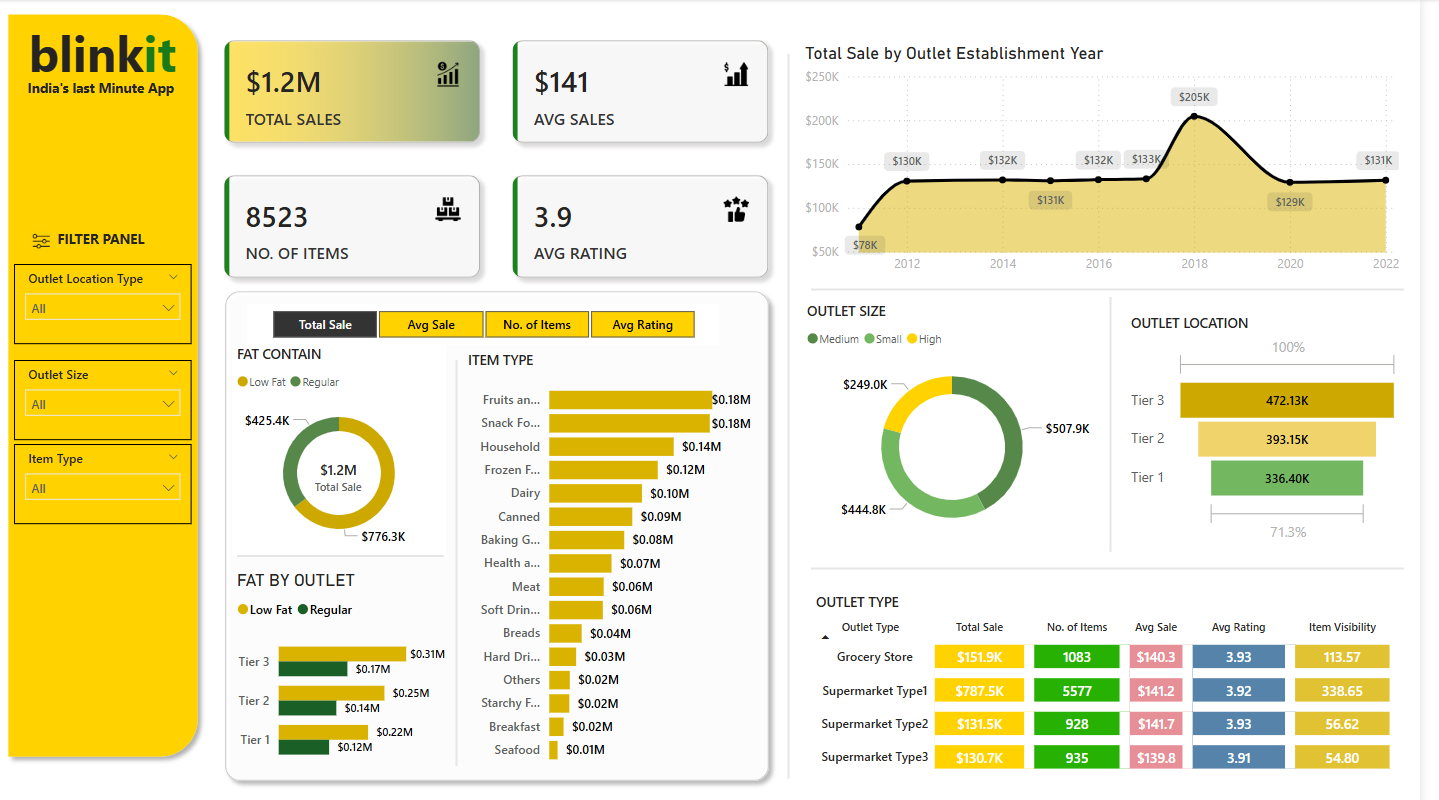

This screenshot's page, from the dashboard's own definition file:
{"tool":"powerbi","page":{"name":"Page 1","canvas":[1400,800],"ordinal":0},"visuals":[{"type":"shape","box":[0,5.9,204.9,749.8],"z":0},{"type":"textbox","box":[17.7,14.8,168.5,74.9],"z":1000},{"type":"textbox","box":[252.2,6.9,457.1,32.5],"z":2000},{"type":"textbox","box":[17.7,73.9,168.5,30.5],"z":3000},{"type":"cardVisual","fields":{"Data":["BlinkIT Grocery Data.Total Sale","BlinkIT Grocery Data.Avg Sale","BlinkIT Grocery Data.No. of Items","BlinkIT Grocery Data.Avg Rating"]},"box":[204.9,23.6,570.4,270],"z":4000},{"type":"shape","box":[213.8,278.8,553.7,500.5],"z":5000},{"type":"donutChart","title":"FAT CONTAIN","fields":{"Y":["BlinkIT Grocery Data.Total Sale"],"Category":["BlinkIT Grocery Data.Item Fat Content"]},"box":[229.6,340.9,210.8,207.9],"z":6000},{"type":"slicer","fields":{"Values":["Metrix.Metrix"]},"box":[244.3,300.5,465,40.4],"z":7000},{"type":"cardVisual","fields":{"Data":["BlinkIT Grocery Data.Total Sale"]},"box":[289.7,438.4,89.7,56.2],"z":8000},{"type":"clusteredBarChart","title":"FAT BY OUTLET","fields":{"Y":["BlinkIT Grocery Data.Total Sale"],"Category":["BlinkIT Grocery Data.Outlet Location Type"],"Series":["BlinkIT Grocery Data.Item Fat Content"]},"box":[229.6,562.6,214.8,203.9],"z":9000},{"type":"shape","box":[800,278.8,584.2,14.8],"z":10000},{"type":"shape","box":[444.3,355.7,12.8,400],"z":11000},{"type":"barChart","title":"ITEM TYPE","fields":{"Y":["BlinkIT Grocery Data.Total Sale"],"Category":["BlinkIT Grocery Data.Item Type"]},"box":[457.1,346.8,288.7,416.7],"z":12000},{"type":"lineChart","fields":{"Y":["BlinkIT Grocery Data.Total Sale"],"Category":["BlinkIT Grocery Data.Outlet Establishment Year"]},"box":[789.2,43.3,595.1,235.5],"z":13000},{"type":"shape","box":[234.5,544.8,203.9,7.9],"z":14000},{"type":"donutChart","title":"OUTLET SIZE","fields":{"Y":["BlinkIT Grocery Data.Total Sale"],"Category":["BlinkIT Grocery Data.Outlet Size"]},"box":[791.1,298.5,295.6,241.4],"z":15000},{"type":"shape","box":[1088.7,293.6,12.8,251.2],"z":16000},{"type":"shape","box":[800,555.7,584.2,10.8],"z":17000},{"type":"funnel","title":"OUTLET LOCATION","fields":{"Y":["Sum(BlinkIT Grocery Data.Sales)"],"Category":["BlinkIT Grocery Data.Outlet Location Type"]},"box":[1110.3,310.3,273.9,229.6],"z":18000},{"type":"shape","box":[771.4,54.2,12.8,714.3],"z":19000},{"type":"pivotTable","title":"OUTLET TYPE","fields":{"Rows":["BlinkIT Grocery Data.Outlet Type"],"Values":["BlinkIT Grocery Data.Total Sale","BlinkIT Grocery Data.No. of Items","BlinkIT Grocery Data.Avg Sale","BlinkIT Grocery Data.Avg Rating","Sum(BlinkIT Grocery Data.Item Visibility)"]},"box":[800,585.2,591.1,214.8],"z":20000},{"type":"slicer","fields":{"Values":["BlinkIT Grocery Data.Outlet Location Type"]},"box":[14.8,261.1,175.4,78.8],"z":21000},{"type":"slicer","fields":{"Values":["BlinkIT Grocery Data.Outlet Size"]},"box":[14.8,355.7,175.4,78.8],"z":22000},{"type":"slicer","fields":{"Values":["BlinkIT Grocery Data.Item Type"]},"box":[14.8,438.4,175.4,78.8],"z":23000},{"type":"textbox","box":[17.7,222.7,168.5,30.5],"z":24000},{"type":"image","box":[25.6,220.7,31.5,35.5],"z":25000}]}

Visuals, with their boxes in screenshot pixels (x1, y1, x2, y2), scaled from the page's 1400x800 canvas onto the 1439x800 screenshot:
shape: bbox=(0, 6, 211, 756)
textbox: bbox=(18, 15, 191, 90)
textbox: bbox=(259, 7, 729, 39)
textbox: bbox=(18, 74, 191, 104)
cardVisual - BlinkIT Grocery Data.Total Sale x BlinkIT Grocery Data.Avg Sale: bbox=(211, 24, 797, 294)
shape: bbox=(220, 279, 789, 779)
"FAT CONTAIN" donutChart: bbox=(236, 341, 453, 549)
slicer - Metrix.Metrix: bbox=(251, 300, 729, 341)
cardVisual - BlinkIT Grocery Data.Total Sale: bbox=(298, 438, 390, 495)
"FAT BY OUTLET" clusteredBarChart: bbox=(236, 563, 457, 766)
shape: bbox=(822, 279, 1423, 294)
shape: bbox=(457, 356, 470, 756)
"ITEM TYPE" barChart: bbox=(470, 347, 767, 764)
lineChart - BlinkIT Grocery Data.Total Sale x BlinkIT Grocery Data.Outlet Establishment Year: bbox=(811, 43, 1423, 279)
shape: bbox=(241, 545, 451, 553)
"OUTLET SIZE" donutChart: bbox=(813, 298, 1117, 540)
shape: bbox=(1119, 294, 1132, 545)
shape: bbox=(822, 556, 1423, 566)
"OUTLET LOCATION" funnel: bbox=(1141, 310, 1423, 540)
shape: bbox=(793, 54, 806, 768)
"OUTLET TYPE" pivotTable: bbox=(822, 585, 1430, 799)
slicer - BlinkIT Grocery Data.Outlet Location Type: bbox=(15, 261, 195, 340)
slicer - BlinkIT Grocery Data.Outlet Size: bbox=(15, 356, 195, 434)
slicer - BlinkIT Grocery Data.Item Type: bbox=(15, 438, 195, 517)
textbox: bbox=(18, 223, 191, 253)
image: bbox=(26, 221, 59, 256)
